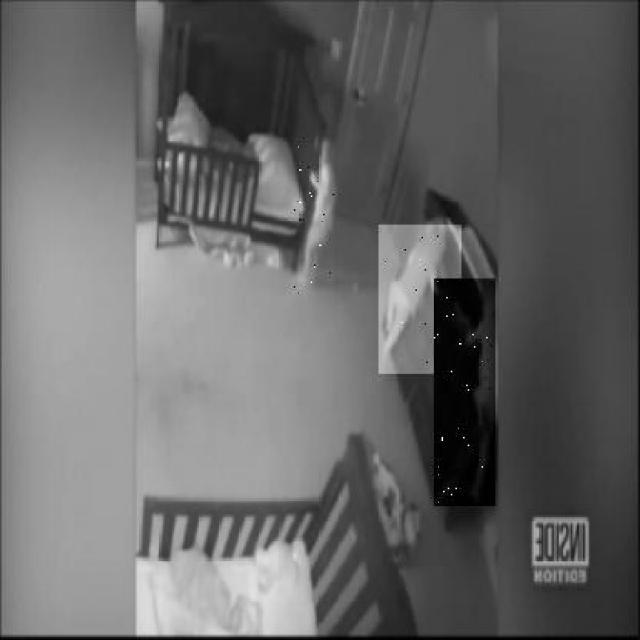child: (433, 279, 495, 507), (378, 225, 461, 374), (292, 143, 334, 297)
